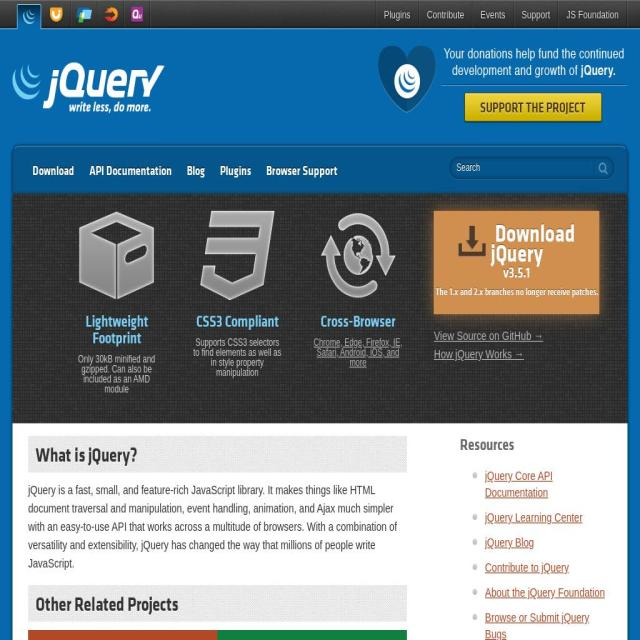button: (434, 211, 599, 314), (434, 327, 599, 345), (434, 345, 599, 363), (82, 155, 178, 185), (260, 155, 344, 185), (28, 630, 218, 640), (217, 630, 407, 640), (559, 1, 627, 28), (26, 155, 81, 185), (419, 1, 472, 28), (213, 155, 258, 185), (514, 1, 558, 28), (376, 1, 418, 28), (473, 1, 513, 28), (180, 155, 212, 185), (13, 2, 45, 29), (45, 1, 71, 28), (124, 1, 150, 28), (72, 1, 97, 28), (98, 1, 123, 28), (594, 160, 608, 176)
field: (450, 158, 588, 178)
heading: (12, 62, 164, 118), (36, 444, 400, 464), (36, 594, 400, 614), (72, 312, 162, 346), (460, 436, 612, 452), (192, 313, 282, 329), (313, 313, 403, 329)
image: (378, 46, 628, 129), (199, 211, 275, 300), (320, 211, 396, 300), (79, 211, 154, 300), (458, 226, 486, 256)
link: (485, 610, 590, 640), (313, 337, 403, 368), (485, 468, 553, 500), (485, 585, 606, 600), (485, 510, 583, 525), (485, 560, 569, 575), (485, 535, 534, 550)
text: (28, 481, 407, 572), (490, 214, 575, 269), (72, 354, 162, 394), (192, 338, 282, 378), (434, 262, 599, 282), (434, 282, 599, 302)
